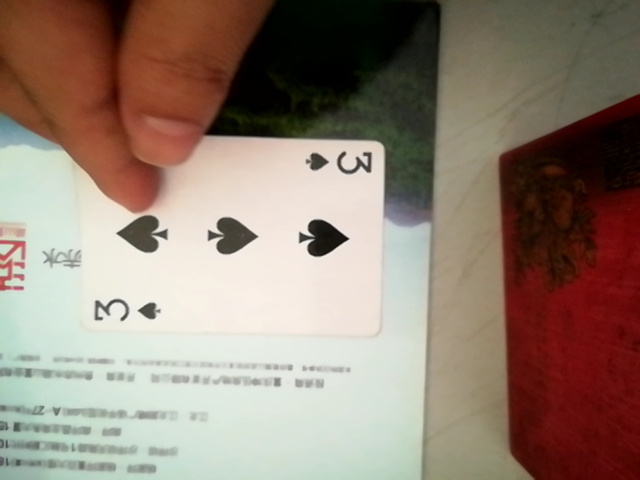ht 3: (65, 129, 402, 349)
